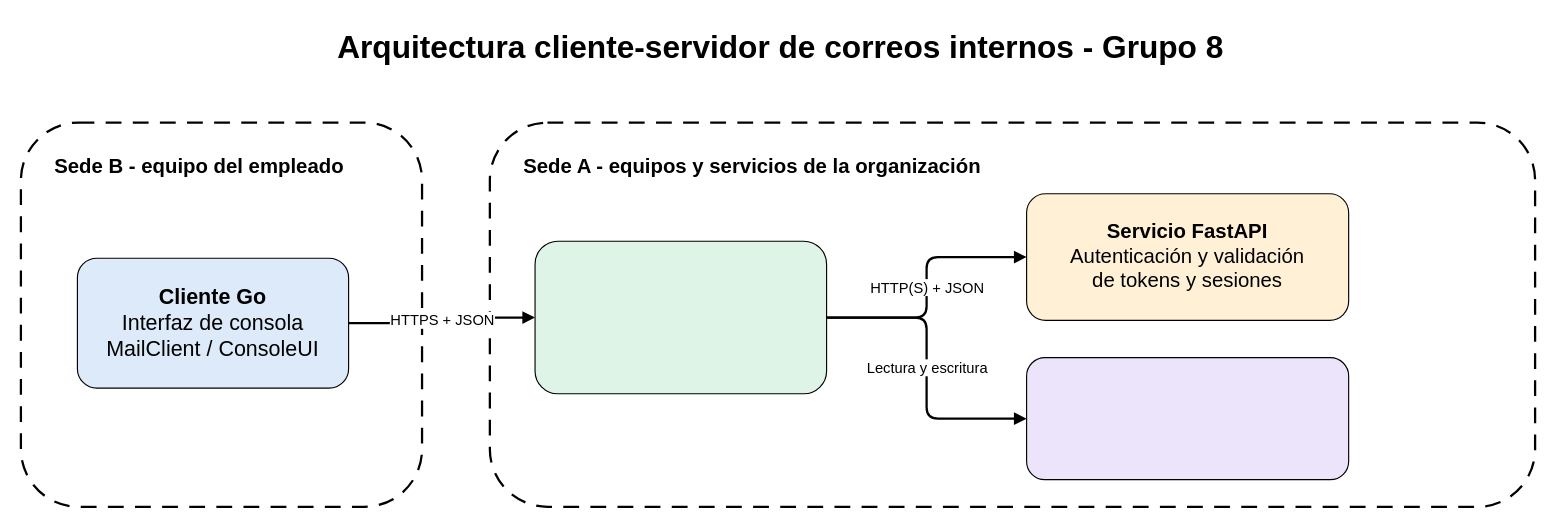
Image size: 1559x527. Some labels were removed from this diagram. The shapes that lost their labels are listed below. From the top down, each one's centre as x and y in pixels, then its label:
At (680,317): "Servidor Go MailServer / HTTPHandlers Operaciones de mensajería".
At (1187,418): "Almacenamiento persistente Mensajes y buzones Archivo o base de datos".
